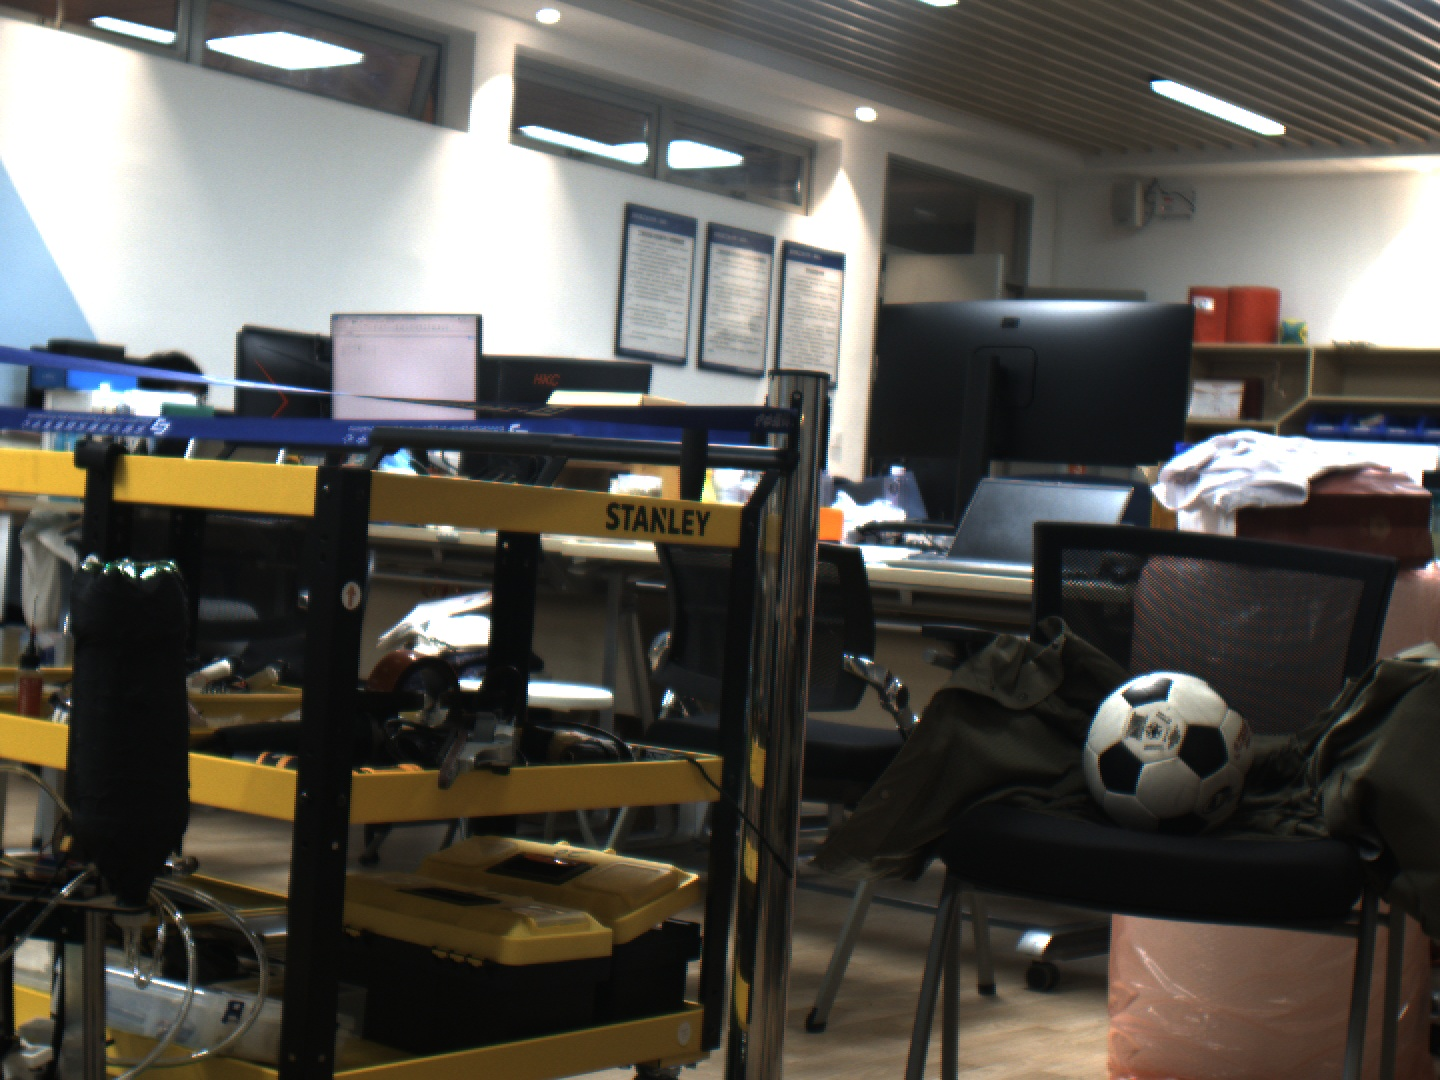ball: (1077, 666, 1254, 828)
